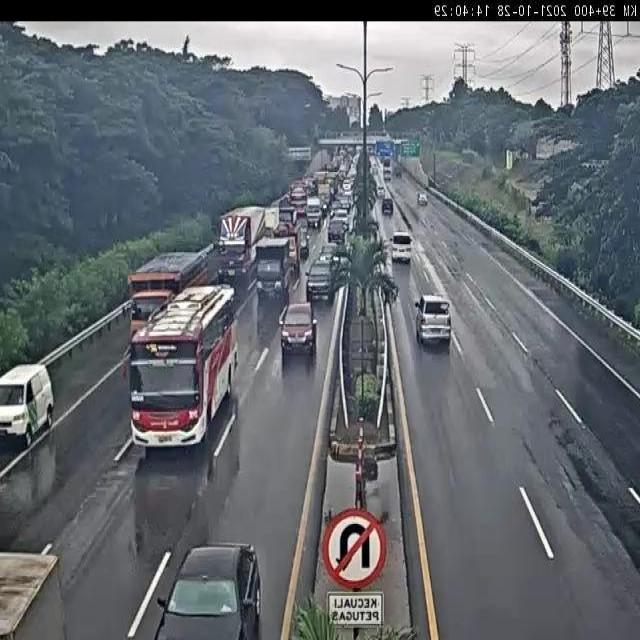Bus: (112, 264, 248, 488), (130, 250, 212, 320), (215, 205, 271, 289)
Car: (278, 301, 318, 366), (306, 255, 340, 304), (390, 231, 412, 262), (382, 198, 394, 215)
Truck: (150, 542, 262, 638), (1, 363, 54, 448), (129, 287, 178, 344), (414, 294, 452, 346), (270, 224, 301, 286), (233, 284, 259, 352), (358, 462, 384, 526), (256, 286, 283, 344), (537, 134, 577, 161), (327, 242, 352, 278), (278, 200, 302, 231), (378, 235, 394, 275), (274, 220, 298, 243), (328, 217, 348, 244), (373, 438, 396, 461), (306, 196, 322, 228), (263, 208, 281, 236), (361, 454, 378, 482), (290, 180, 308, 206), (330, 204, 350, 227), (366, 210, 380, 242), (344, 204, 358, 236), (130, 321, 149, 344), (383, 277, 399, 303), (314, 170, 330, 195), (412, 155, 428, 180), (316, 250, 338, 268), (318, 183, 332, 211), (217, 262, 233, 286), (340, 238, 354, 261), (317, 138, 349, 148), (299, 227, 309, 258), (356, 142, 374, 158), (534, 201, 552, 217), (270, 193, 285, 212), (291, 149, 311, 163), (327, 178, 338, 202), (580, 160, 606, 170), (341, 188, 354, 207), (348, 166, 358, 190), (342, 145, 356, 161), (326, 238, 340, 252), (338, 167, 348, 186), (367, 155, 376, 176), (304, 177, 315, 194), (383, 160, 392, 180), (214, 239, 225, 254), (338, 131, 358, 139), (364, 136, 380, 146), (125, 298, 134, 315), (352, 151, 360, 170), (427, 174, 437, 189), (122, 356, 128, 380), (417, 192, 427, 206), (342, 180, 352, 194), (506, 150, 513, 170), (377, 151, 387, 164), (376, 134, 390, 143), (350, 118, 360, 130), (376, 185, 384, 199), (387, 236, 394, 252), (310, 134, 318, 147), (396, 149, 404, 160), (395, 168, 402, 178), (393, 139, 403, 146)
